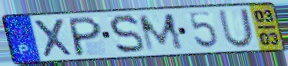5: (187, 10, 221, 50)
M: (136, 12, 187, 54)
P: (68, 15, 103, 57)
S: (108, 14, 147, 56)
U: (217, 7, 256, 49)
X: (31, 17, 76, 59)
